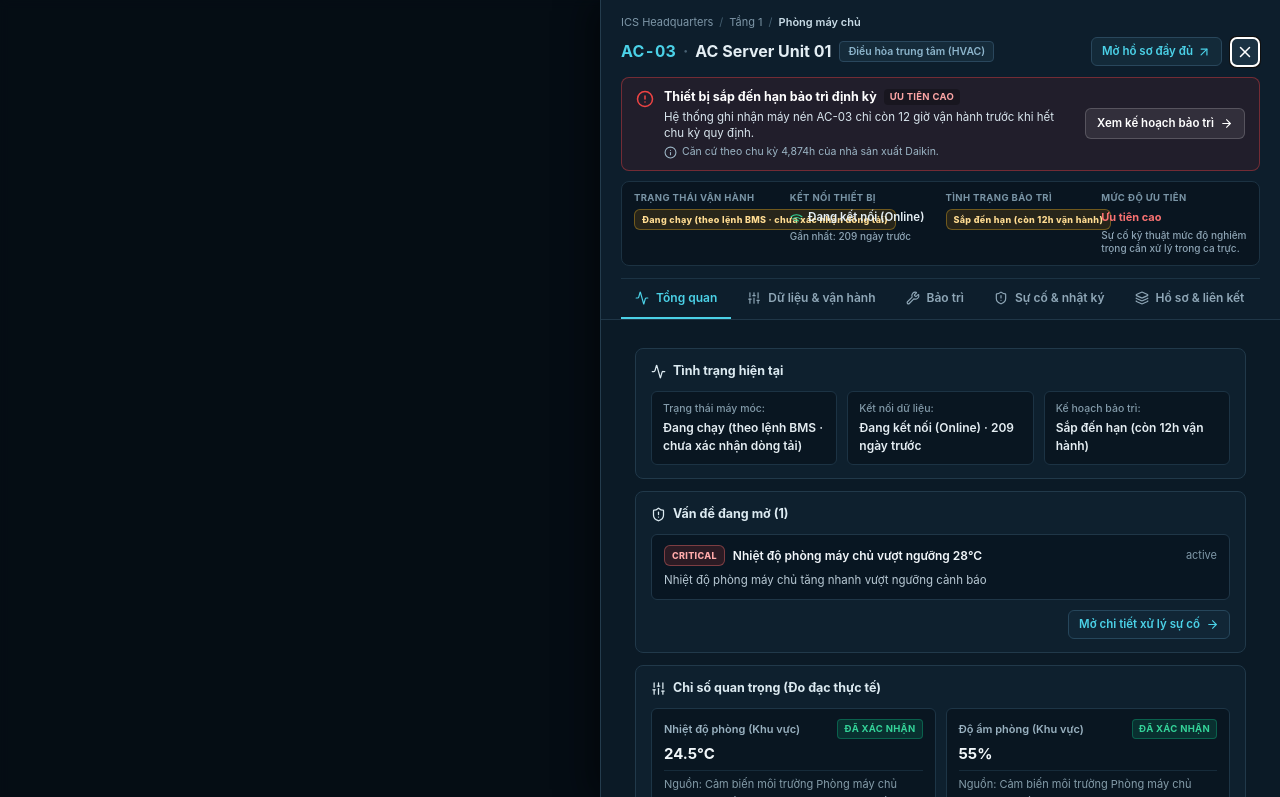
it: AssetDetailDrawer › prevents alert acknowledgment and shows note for Viewer role
Click the tab "Sự cố & nhật ký".
click(1049, 299)  # box [980,279,1119,319]
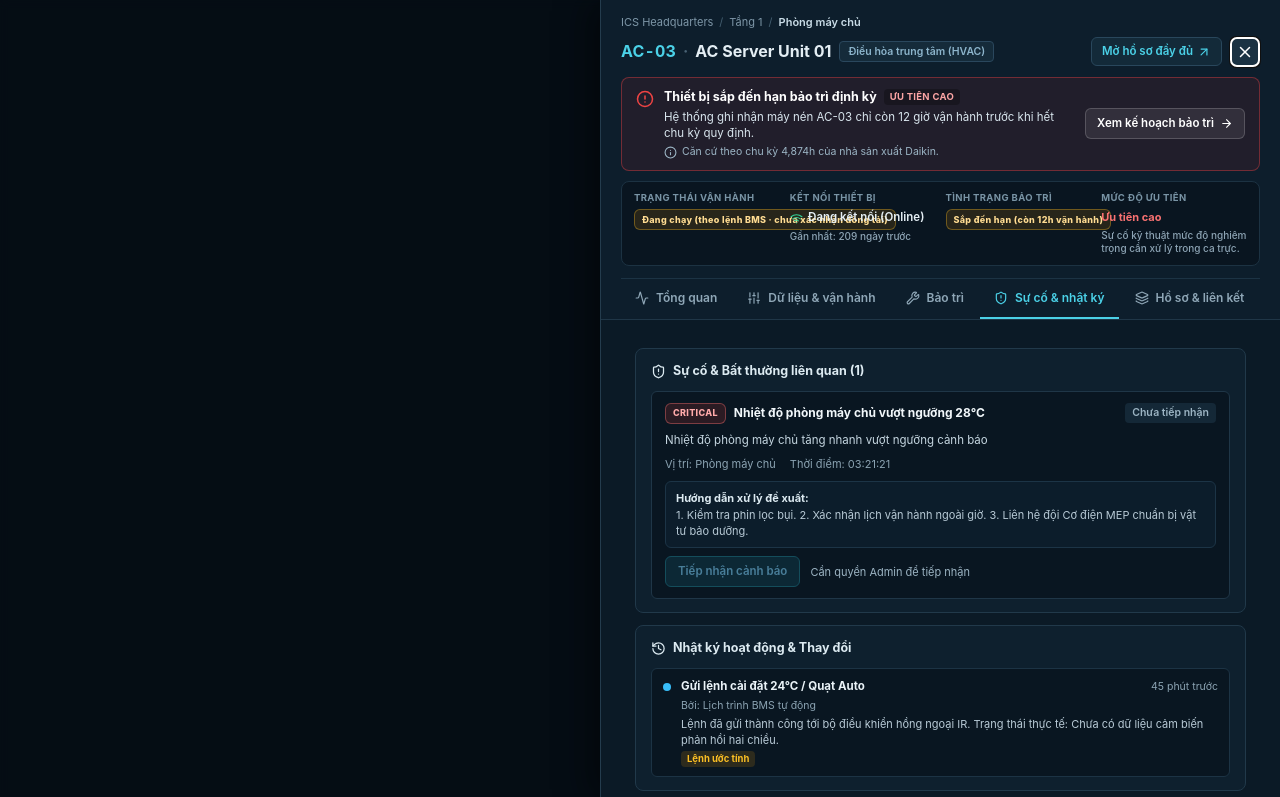
Expected: the button "Tiếp nhận cảnh báo" is disabled, [665,556,800,587]
Expected: the text "Cần quyền Admin để tiếp nhận" is shown, [810,564,970,580]
